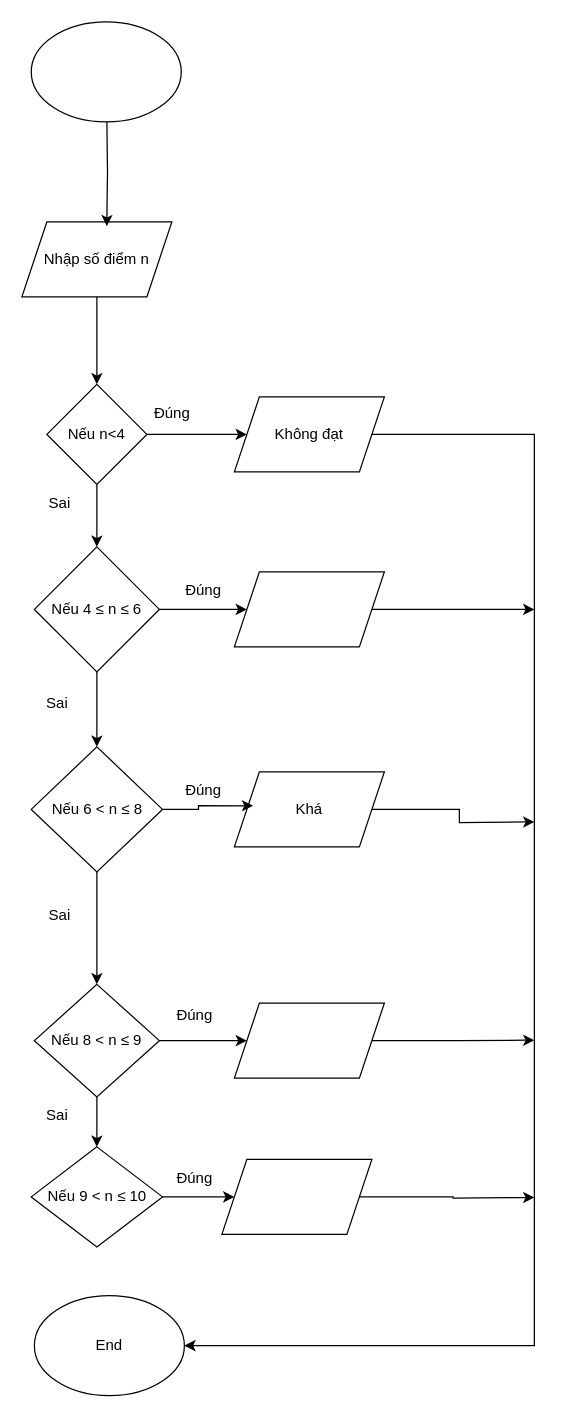
This 566x1418 diagram has some shape labels left out. The centre of each missing label's shape, as x and y in pixels:
"Giỏia" belongs at point 308,1040.
"Start" belongs at point 105,71.
"Trung bình" belongs at point 308,609.
"Xuất sắc" belongs at point 296,1196.
